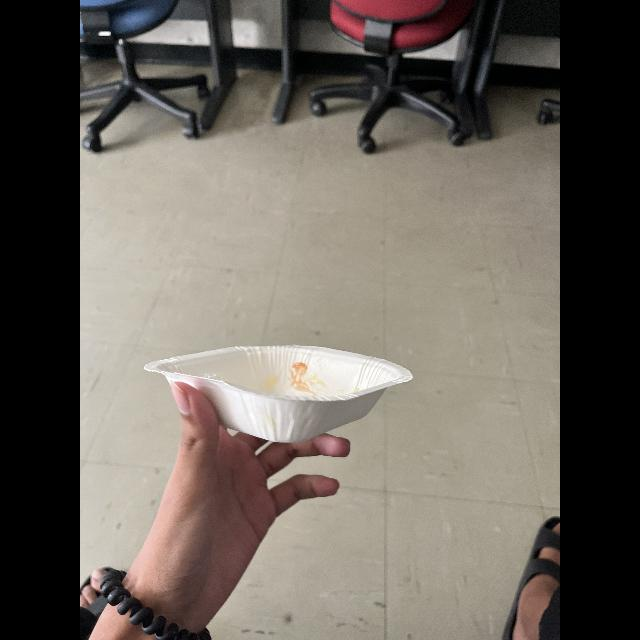cardboard_bowl: (148, 339, 424, 448)
